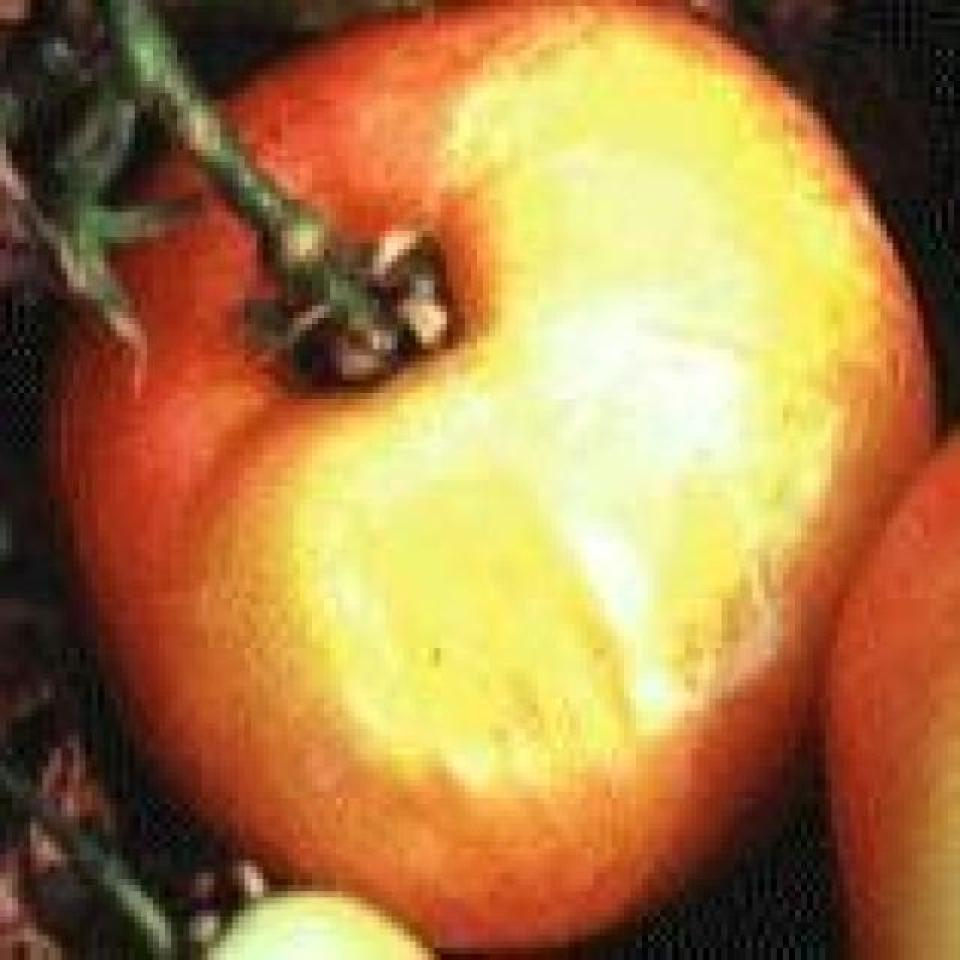Sunscald: (236, 22, 860, 839)
